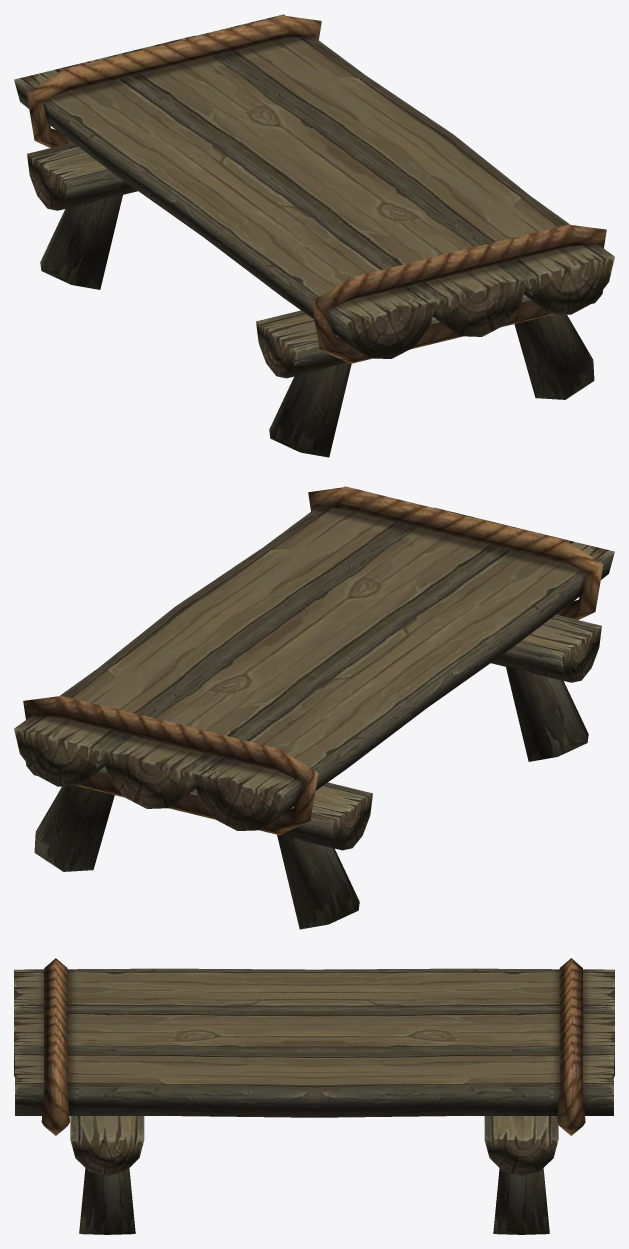
3 views of the same model, one above another, from view 1: azimuth 30°, elevation 25°; view 2: azimuth 150°, elevation 25°; view 3: azimuth 270°, elevation 25° (orthographic). The views are drawn at different scales.
Size of the model in its own units: 3.61 by 2.07 by 6.44.
Materials: 1 (1 with a texture image).
